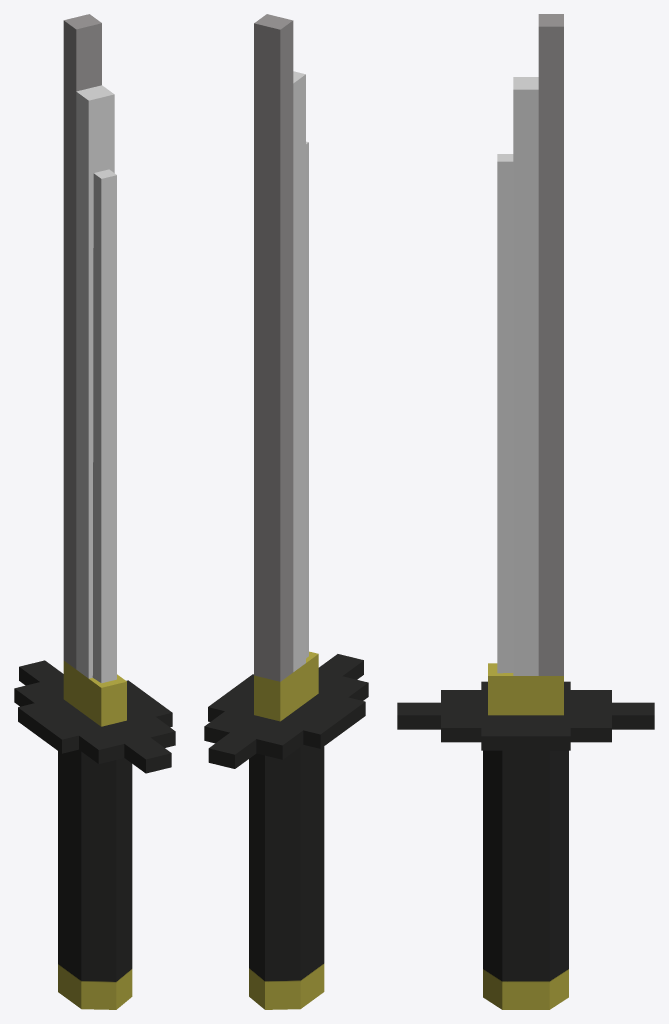
File: katana.fbx
3 views of the same model, side by side, from view 1: azimuth 30°, elevation 25°; view 2: azimuth 150°, elevation 25°; view 3: azimuth 270°, elevation 25° (orthographic).
Parts seen in each view (by area): view 1: pCylinder2; view 2: pCylinder2; view 3: pCylinder2.
Boxes of the visible parts, bbox=[...] form: pCylinder2: bbox=[14, 14, 175, 1009]; pCylinder2: bbox=[204, 14, 368, 1009]; pCylinder2: bbox=[397, 14, 654, 1009].
Bounding box in the file's own units: 8.4 × 69.96 × 16.68.
